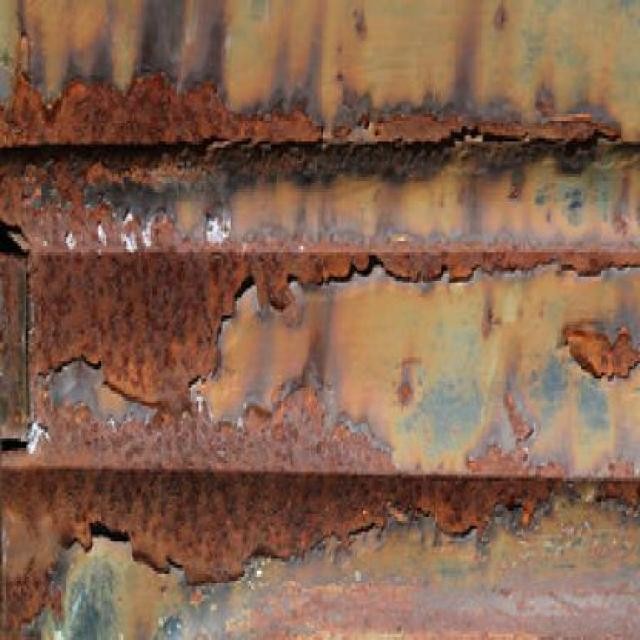Corrosion: (2, 469, 570, 589), (2, 358, 393, 472), (26, 256, 238, 416), (3, 69, 323, 170), (230, 253, 636, 310), (2, 174, 260, 250), (371, 111, 620, 154), (554, 319, 638, 382), (598, 480, 638, 520)
